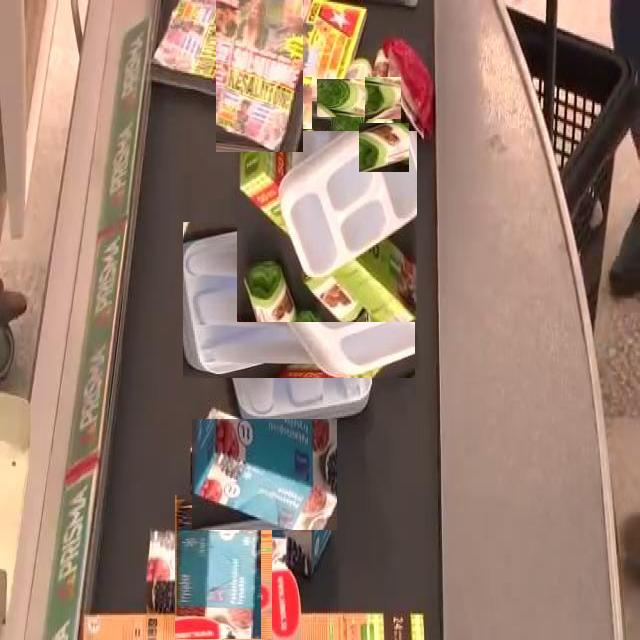food-box: (157, 525, 355, 640)
utility-box: (201, 203, 396, 398), (236, 130, 417, 322), (183, 0, 335, 119), (191, 418, 337, 530), (158, 512, 277, 631), (325, 70, 382, 127), (259, 76, 312, 130), (358, 122, 408, 173), (363, 79, 402, 118)
